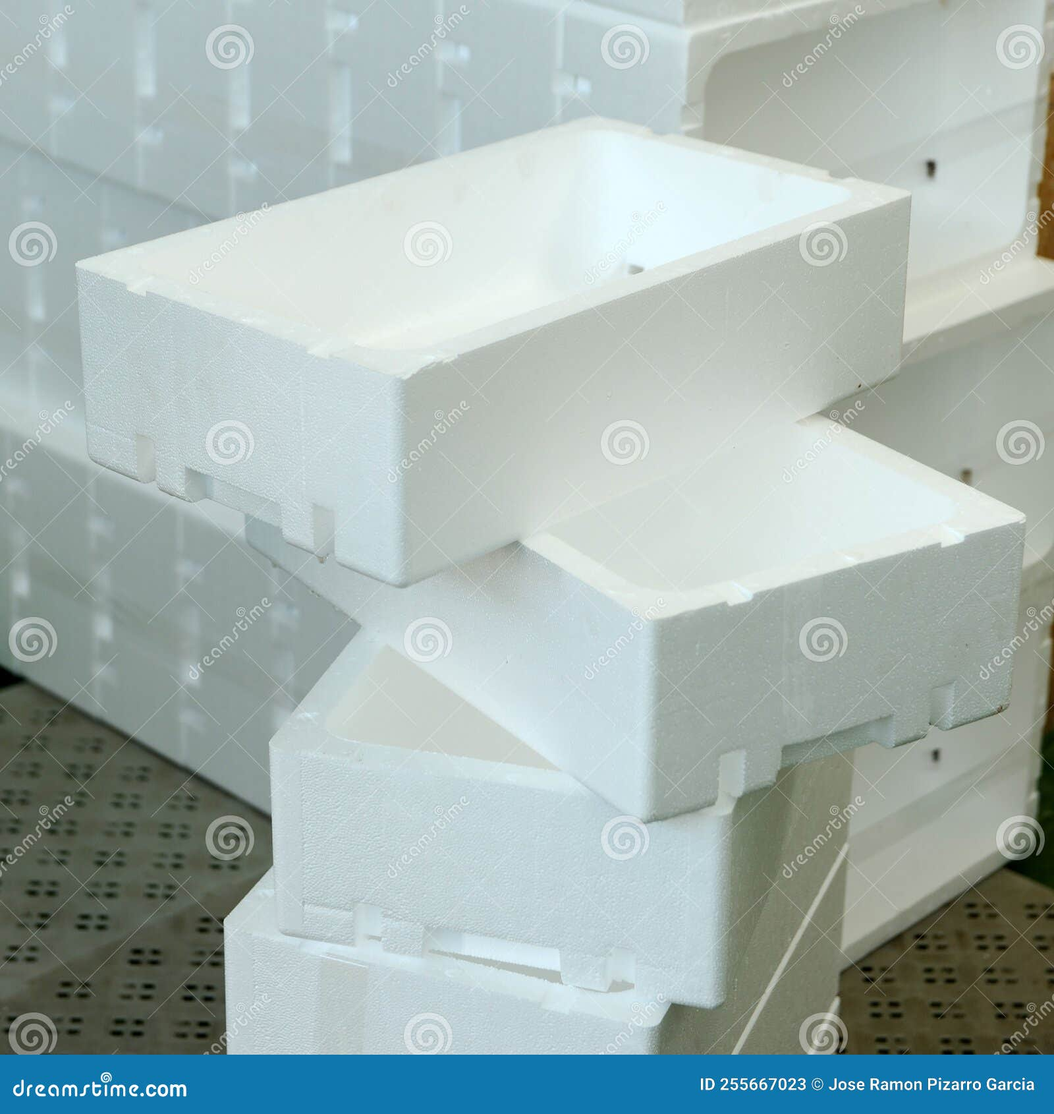泡沫箱: (78, 125, 1023, 1054)
